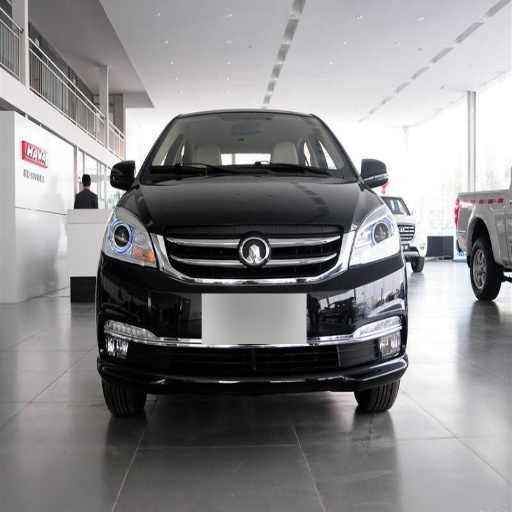front_bumper: (98, 225, 406, 388)
front_right_light: (106, 207, 155, 264)
hood: (130, 176, 377, 231)
trunk: (459, 193, 510, 239)
